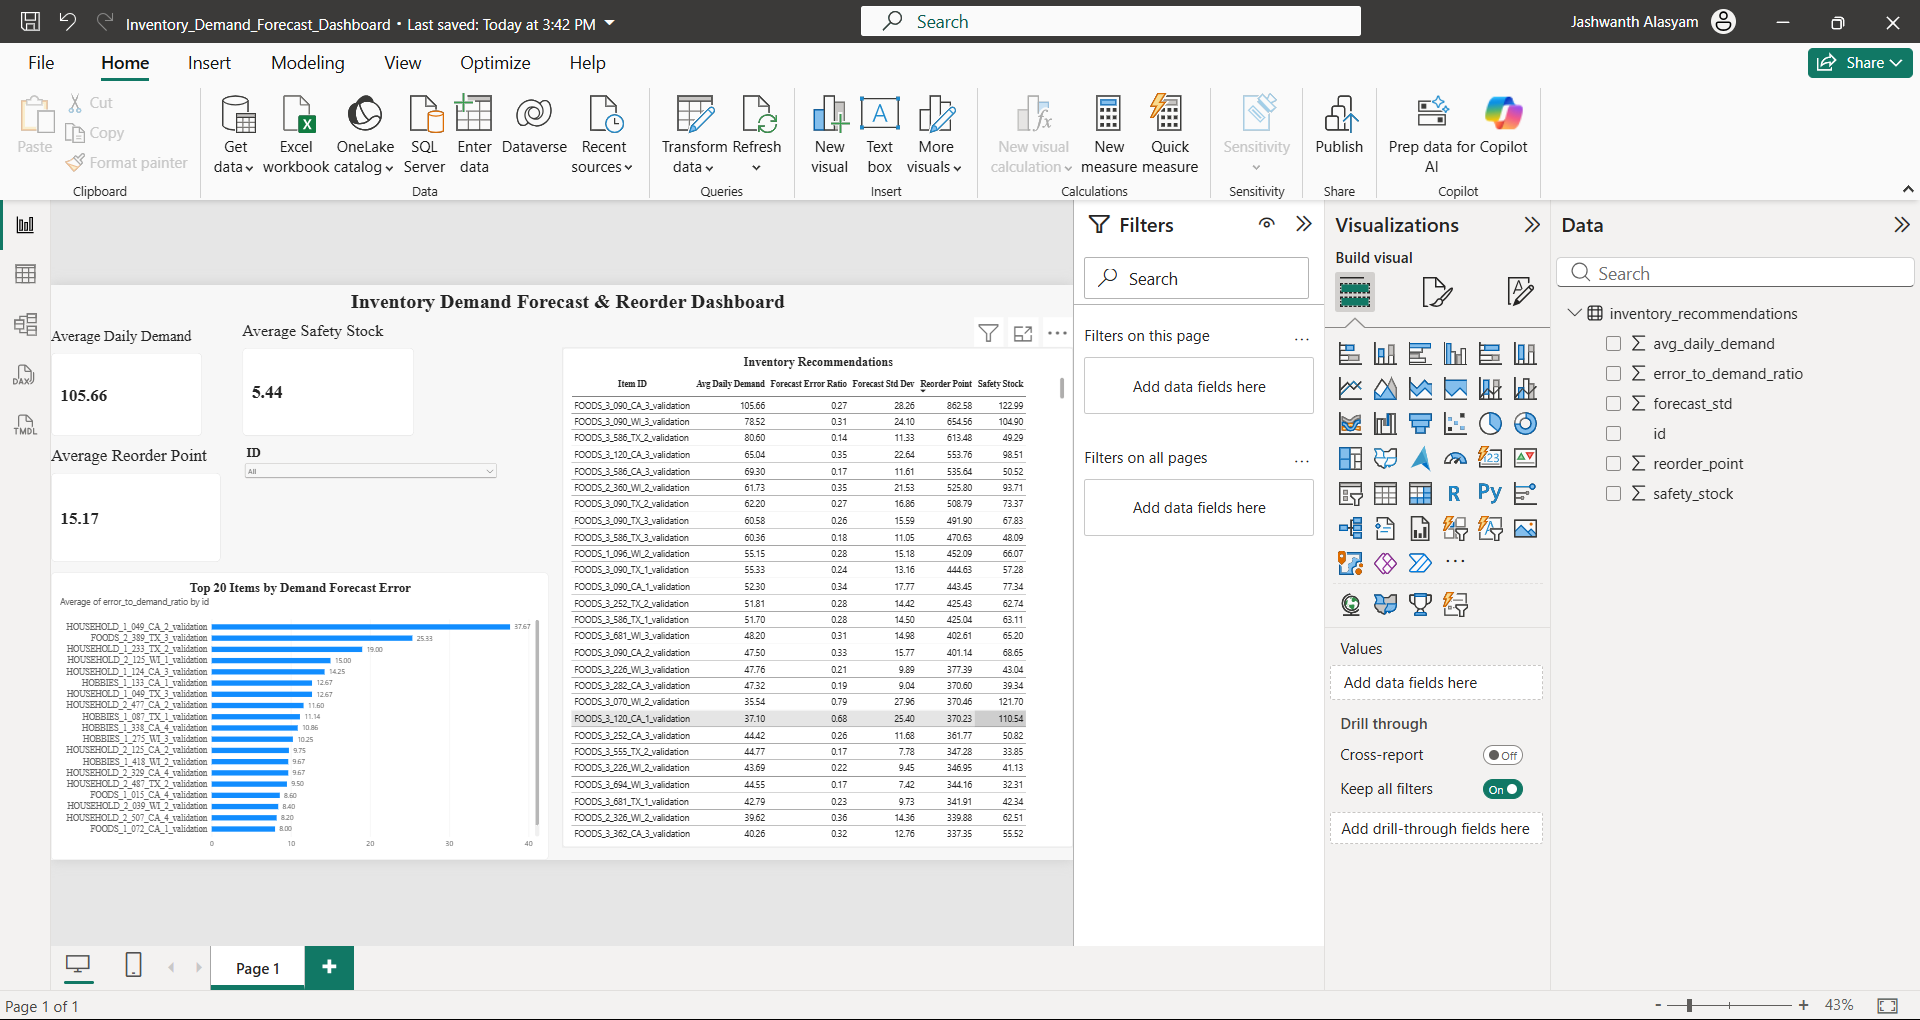

The dashboard page shown, as its layout file describes it:
{"tool":"powerbi","page":{"name":"Page 1","canvas":[1920,1080],"ordinal":0},"visuals":[{"type":"cardVisual","title":"Average Daily Demand","fields":{"Data":["Max(inventory_recommendations.avg_daily_demand)"]},"box":[0,79.8,284.1,204.3],"z":1000},{"type":"cardVisual","title":"Average Safety Stock","fields":{"Data":["Avg(inventory_recommendations.safety_stock)"]},"box":[359.2,68.1,324,216],"z":2000},{"type":"cardVisual","title":"Average Reorder Point","fields":{"Data":["Avg(inventory_recommendations.reorder_point)"]},"box":[0,300.5,319.3,220.7],"z":3000},{"type":"tableEx","title":"Inventory Recommendations","fields":{"Values":["inventory_recommendations.id","Sum(inventory_recommendations.avg_daily_demand)","Sum(inventory_recommendations.error_to_demand_ratio)","Sum(inventory_recommendations.forecast_std)","Sum(inventory_recommendations.reorder_point)","Sum(inventory_recommendations.safety_stock)"]},"box":[960.2,117.4,960.2,939.1],"z":4000},{"type":"clusteredBarChart","title":"Top 20 Items by Demand Forecast Error","fields":{"Category":["inventory_recommendations.id"],"Y":["Avg(inventory_recommendations.error_to_demand_ratio)"]},"box":[0,540,934.4,540],"z":5000},{"type":"slicer","fields":{"Values":["inventory_recommendations.id"]},"box":[359.2,300.5,483.6,220.7],"z":6000},{"type":"textbox","box":[21.1,9.4,1899.3,70.4],"z":7000}]}

Visuals, with their boxes on the page's 1920x1080 design canvas (x1, y1, x2, y2). These are canvas units, not pixel positions in the 1920x1020 screenshot, which may show the page scaled, cropped or inside an application window:
"Average Daily Demand" cardVisual: crop(0, 80, 284, 284)
"Average Safety Stock" cardVisual: crop(359, 68, 683, 284)
"Average Reorder Point" cardVisual: crop(0, 300, 319, 521)
"Inventory Recommendations" tableEx: crop(960, 117, 1920, 1056)
"Top 20 Items by Demand Forecast Error" clusteredBarChart: crop(0, 540, 934, 1080)
slicer - inventory_recommendations.id: crop(359, 300, 843, 521)
textbox: crop(21, 9, 1920, 80)
